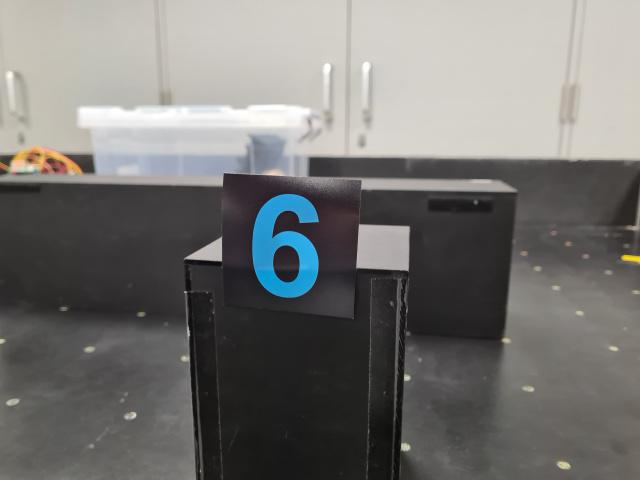six: (221, 172, 362, 320)
